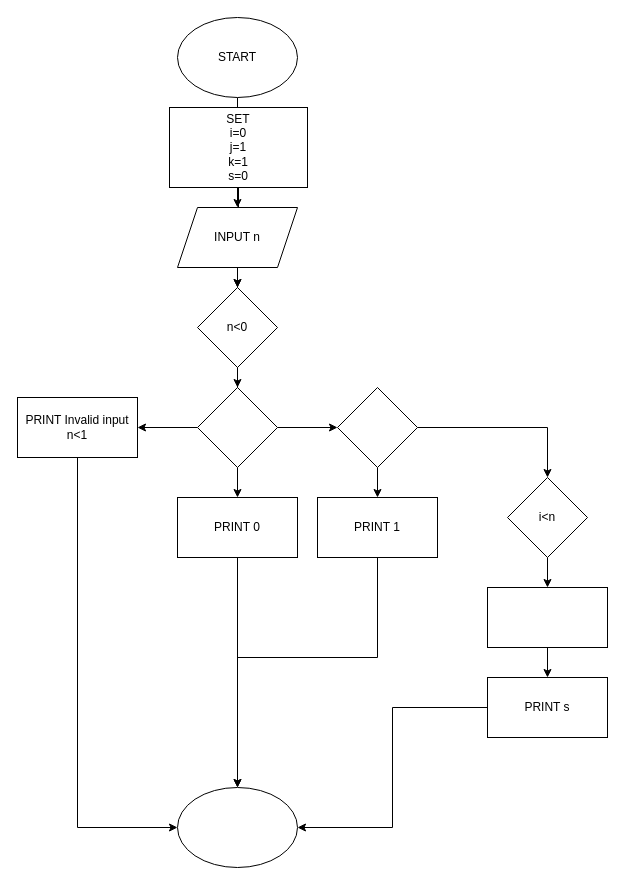
The diagram is 625 pixels wide and 885 high, and some of its shapes have lost their labels. The shapes that lost their labels are listed below. From the top down, each one's box as (x1, y1, x2, y2) in pixels, then its label:
(196, 386, 278, 468): n=0
(336, 386, 418, 468): n=1
(486, 586, 608, 648): s=j+k k=s j=k i++
(176, 786, 298, 868): END
